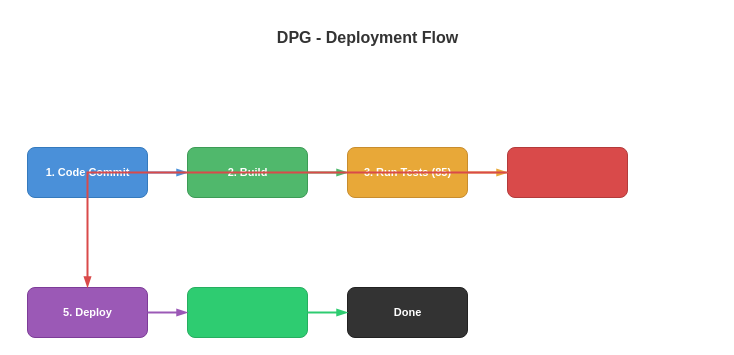
Image size: 734x355. Some labels were removed from this diagram. The centre of each missing label's shape, as x and y in pixels:
"4. Package" goes at (567,172).
"6. Verify" goes at (247,312).
